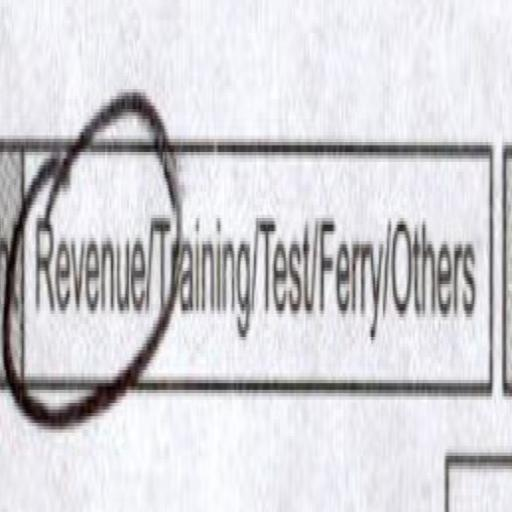check: (31, 52, 145, 436)
